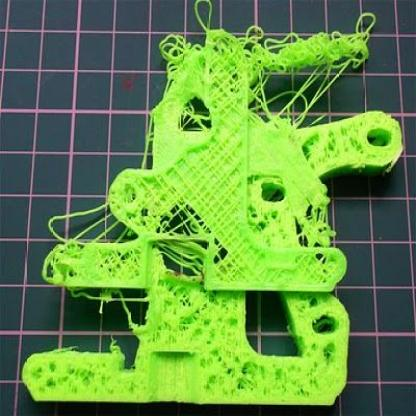fail: (244, 1, 378, 116), (154, 24, 231, 97), (164, 207, 209, 283)
